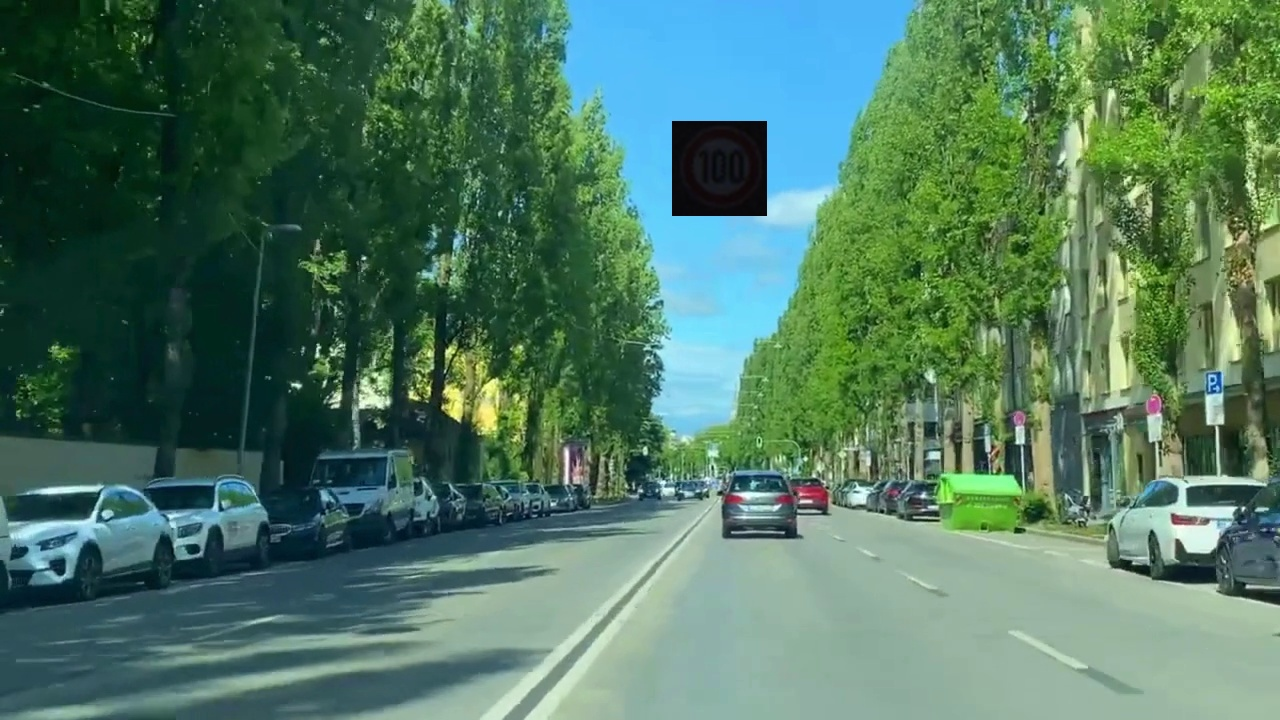Speed 100: (672, 121, 767, 216)
